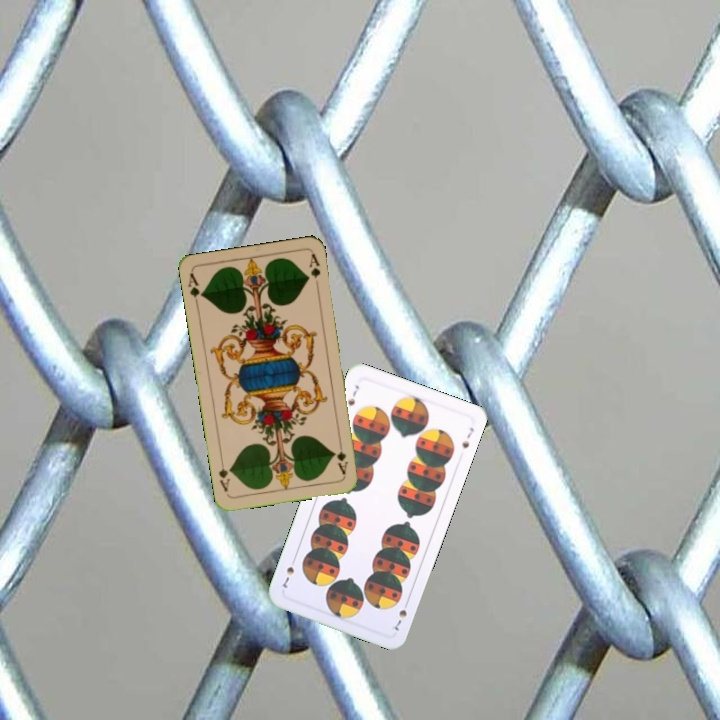GA: (184, 269, 206, 310), (333, 437, 350, 477)
S7: (390, 596, 411, 633), (343, 381, 362, 408)
